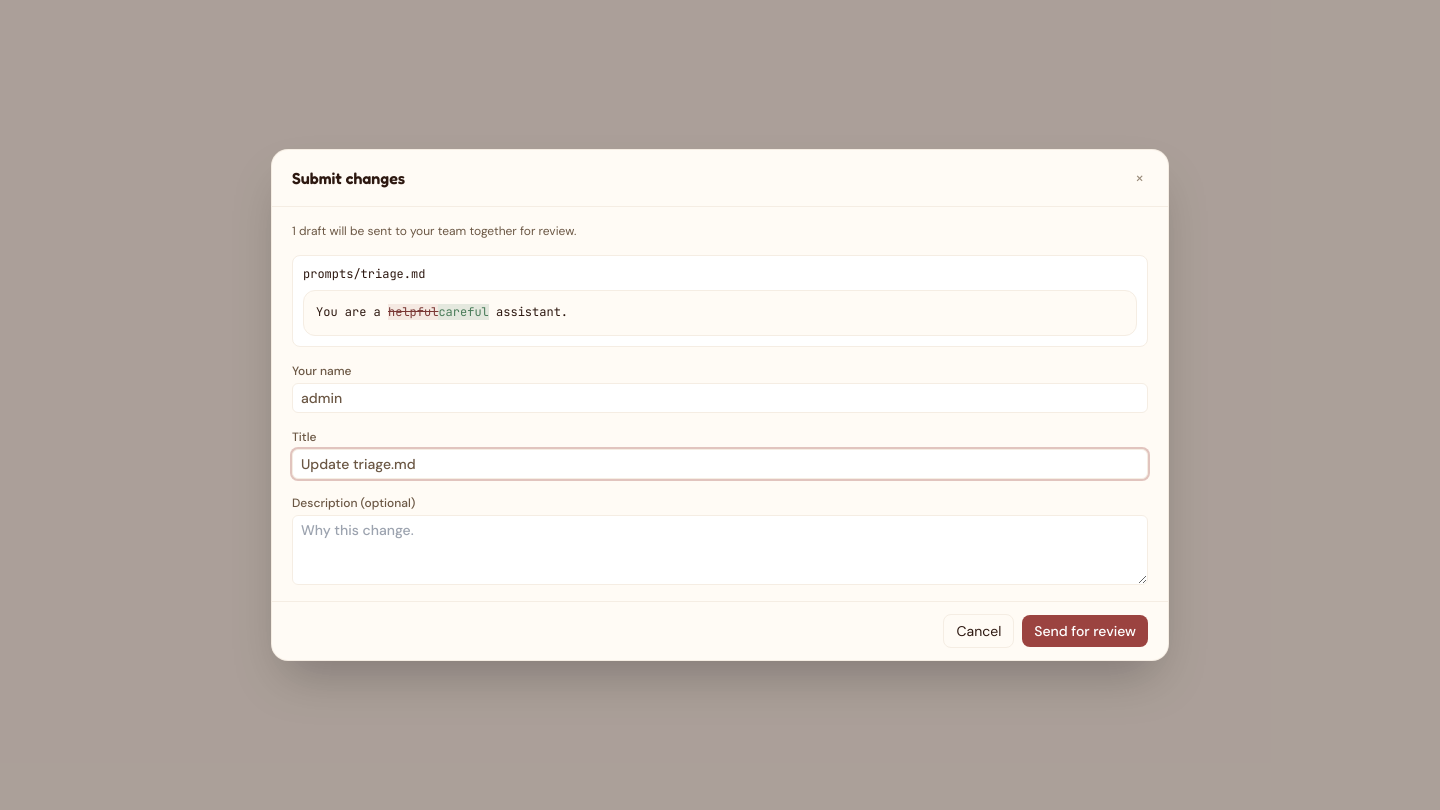
Test: SubmitModal › requires a non-empty title — clearing the prefill blocks submit
Clear the field with placeholder "Tighten triage prompt". click: x=720, y=464
box: [292, 449, 1148, 479]
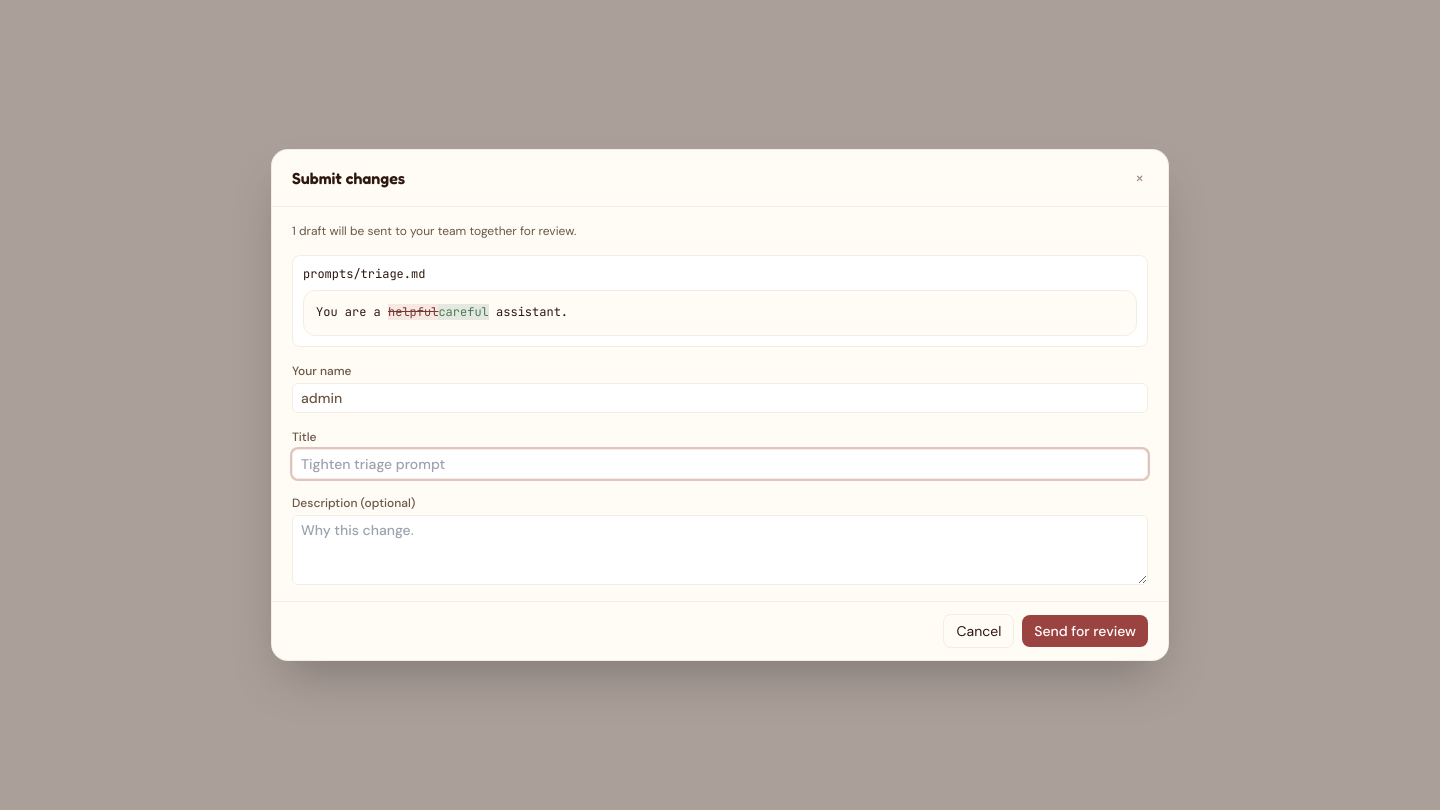
Click the button "Send for review". click: x=1085, y=631
box: [1022, 615, 1148, 647]
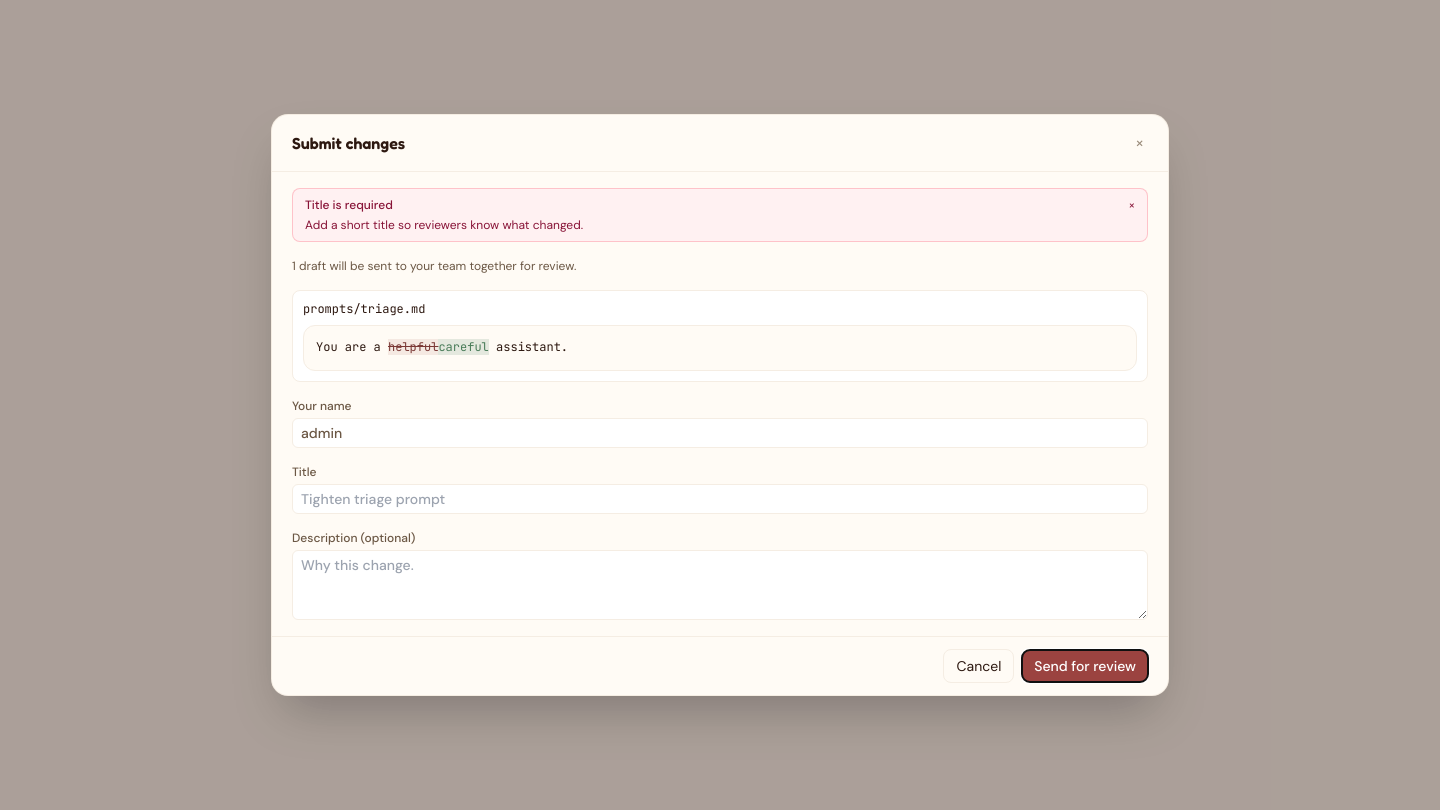
Expected: the text "Title is required" is shown, [305, 197, 393, 213]
